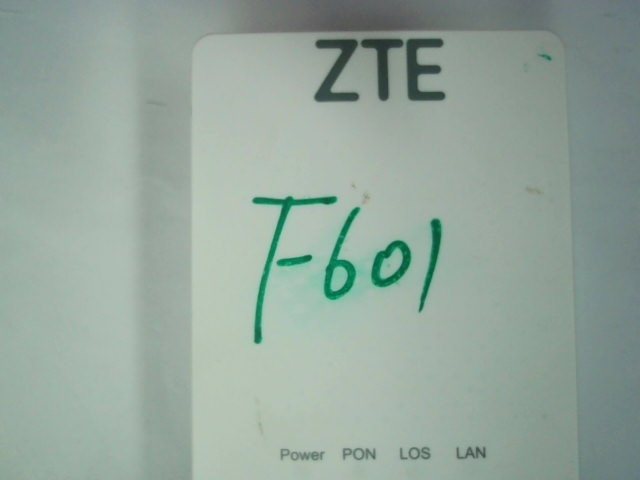AN_ZTE: (280, 31, 455, 110)
